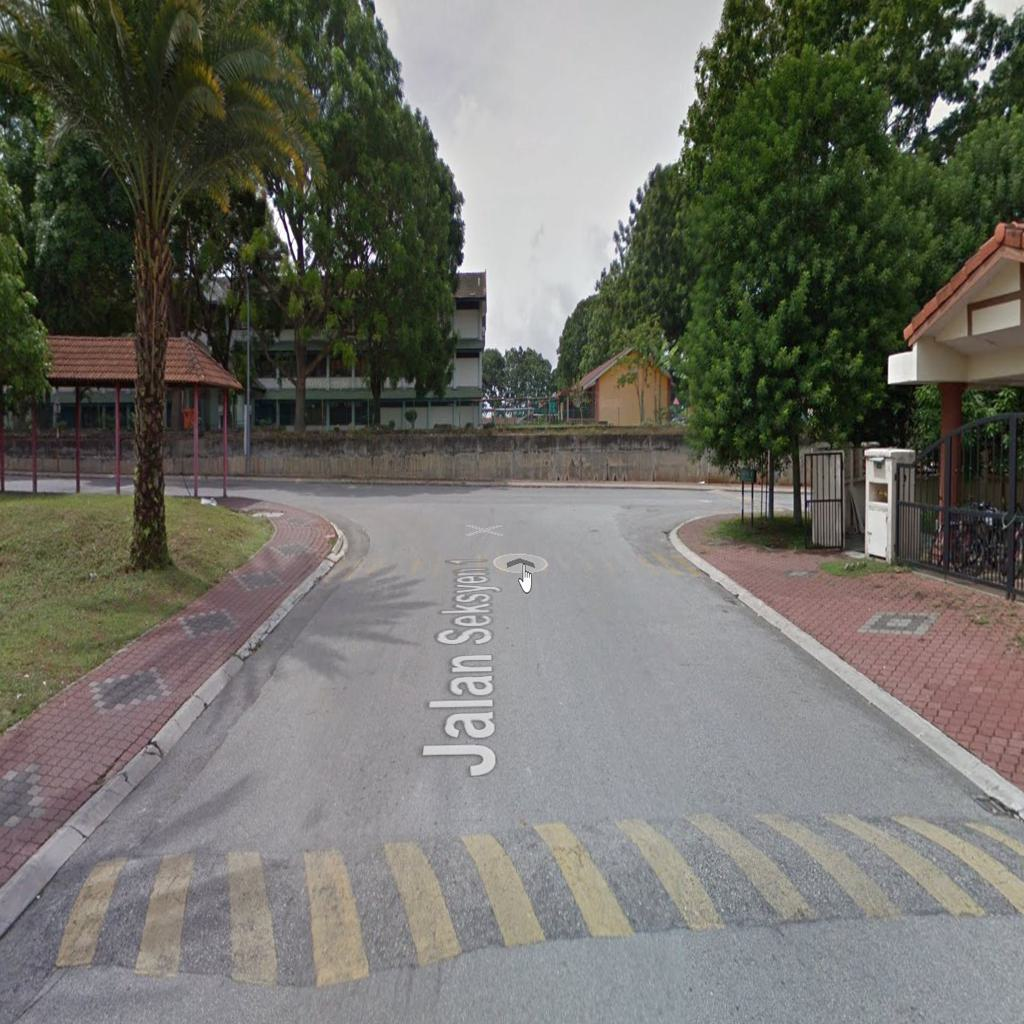Junction: (169, 404, 422, 574), (590, 445, 812, 546)
